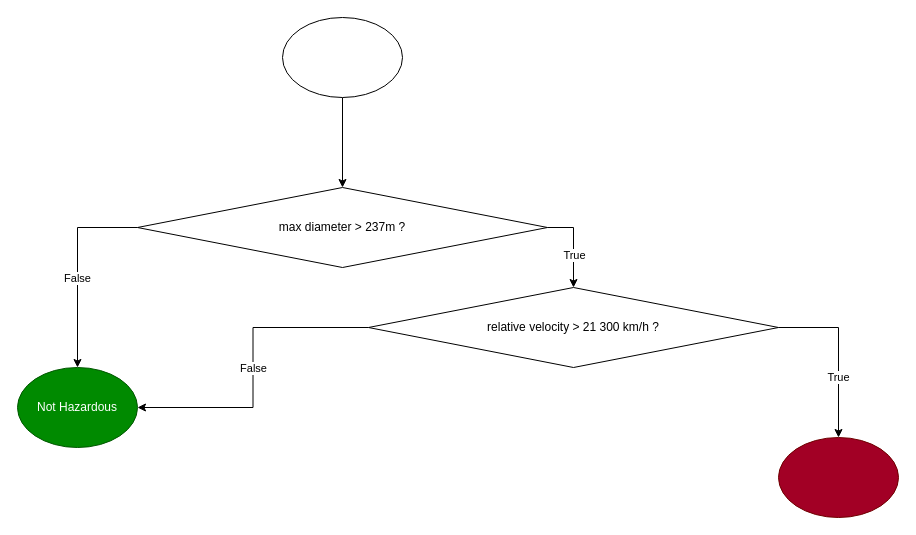
Some shapes in this 916 by 535 pixel diagram are drawn without their labels. Here are the shapes that lost their labels. From the top down, the centre of each, then its label:
pixel 342 57: Start
pixel 838 477: Hazardous
